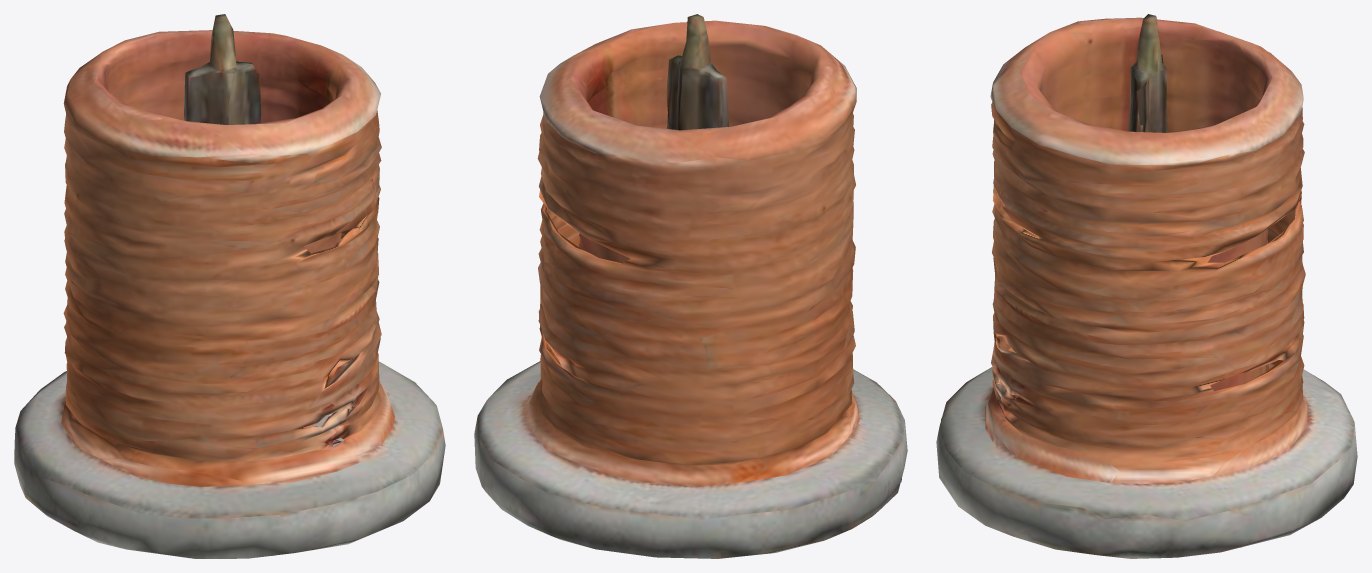
The model's file is kn_arc_coil.glb.
3 renders of one model, left to right at view 1: azimuth 30°, elevation 25°; view 2: azimuth 150°, elevation 25°; view 3: azimuth 270°, elevation 25°, orthographic.
Parts seen in each view (by area): view 1: geometry_0; view 2: geometry_0; view 3: geometry_0.
Part boxes in pixels (bbox=[...]): geometry_0: bbox=[14, 14, 445, 558]; geometry_0: bbox=[474, 14, 907, 558]; geometry_0: bbox=[936, 14, 1357, 558].
Size of the model in its own units: 0.858 by 1 by 0.8468.
1 material, 1 textured.
